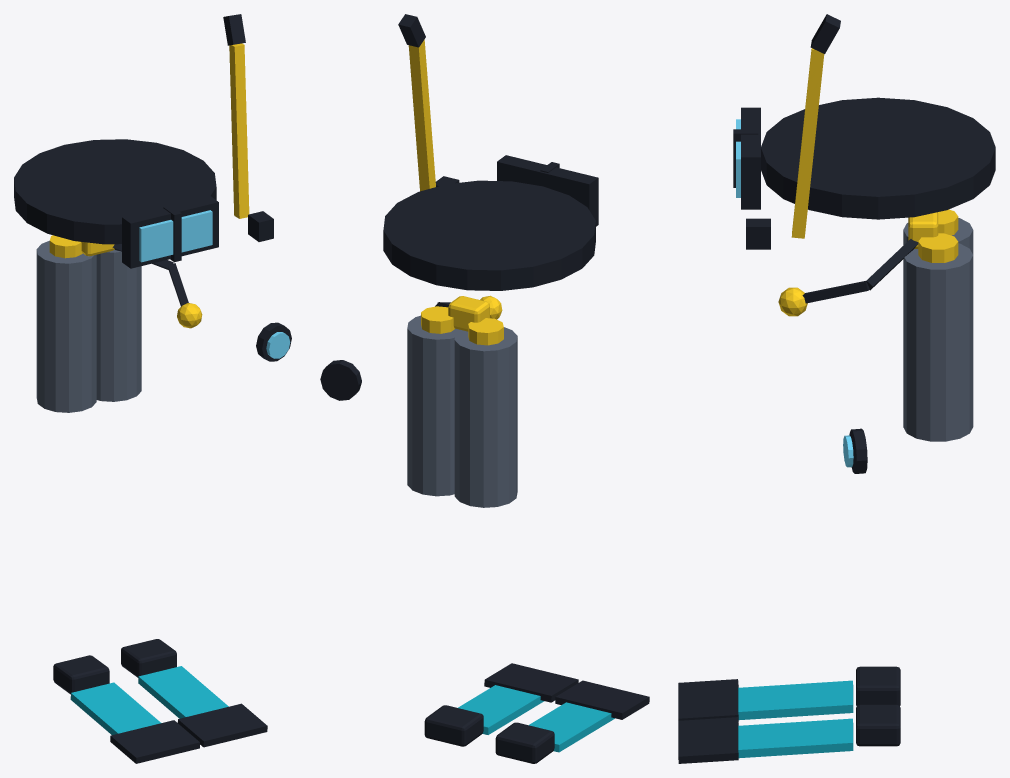
Rendered from Outfit_Scuba.fbx.
3 views of the same model, side by side, from view 1: azimuth 30°, elevation 25°; view 2: azimuth 150°, elevation 25°; view 3: azimuth 270°, elevation 25° (orthographic). The views are drawn at different scales.
Parts seen in each view (by area): view 1: Mask__Head, Tank__spine.002, FinR__foot.R, FinL__foot.L, Snorkel__Head, Gauge__forearm.L, Hose__spine.004; view 2: Mask__Head, Tank__spine.002, FinR__foot.R, FinL__foot.L, Snorkel__Head, Gauge__forearm.L; view 3: Mask__Head, Tank__spine.002, FinL__foot.L, FinR__foot.R, Snorkel__Head, Hose__spine.004, Gauge__forearm.L.
Part boxes in pixels (x1,y1,x2,y2): Mask__Head: (14, 139, 218, 268); Tank__spine.002: (36, 235, 141, 412); FinR__foot.R: (53, 655, 199, 763); FinL__foot.L: (121, 639, 267, 747); Snorkel__Head: (223, 14, 273, 241); Gauge__forearm.L: (256, 322, 291, 361); Hose__spine.004: (112, 244, 202, 328); Mask__Head: (383, 155, 598, 290); Tank__spine.002: (407, 296, 517, 507); FinR__foot.R: (495, 680, 649, 763); FinL__foot.L: (424, 663, 578, 746); Snorkel__Head: (398, 14, 459, 191); Gauge__forearm.L: (320, 360, 361, 400); Mask__Head: (733, 97, 995, 219); Tank__spine.002: (903, 209, 973, 441); FinL__foot.L: (678, 704, 900, 763); FinR__foot.R: (678, 666, 900, 721); Snorkel__Head: (746, 14, 840, 249); Hose__spine.004: (778, 239, 918, 316); Gauge__forearm.L: (843, 428, 867, 473).
Size of the model in its own units: 0.6812 by 1.69 by 0.6354.
